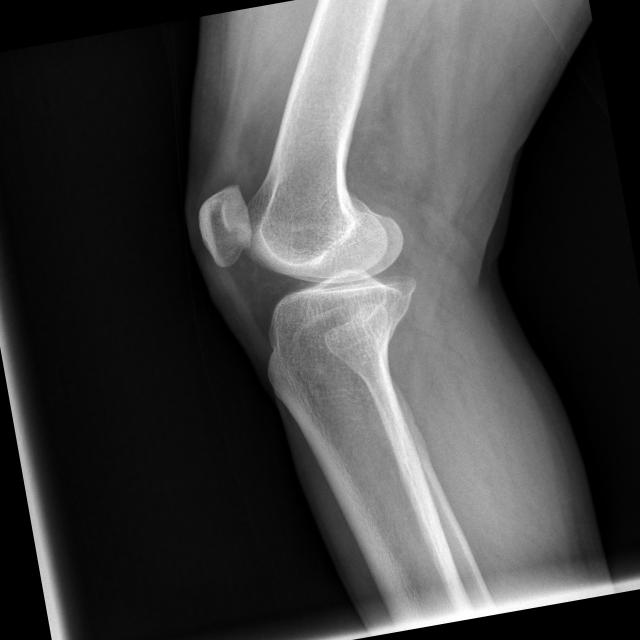Knee: (188, 154, 426, 372)
